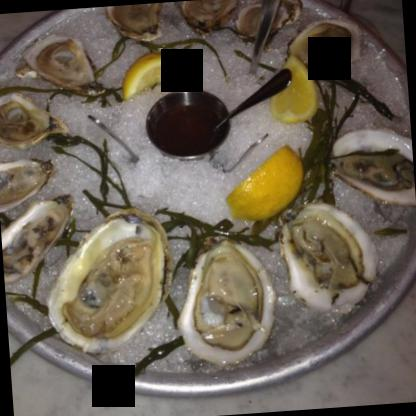oyster: (42, 207, 170, 350), (176, 239, 275, 361), (282, 199, 380, 314), (330, 118, 415, 207), (0, 194, 76, 286), (25, 27, 104, 103), (290, 12, 370, 74), (0, 88, 74, 153), (0, 162, 52, 214), (107, 2, 165, 42), (180, 0, 236, 33)
